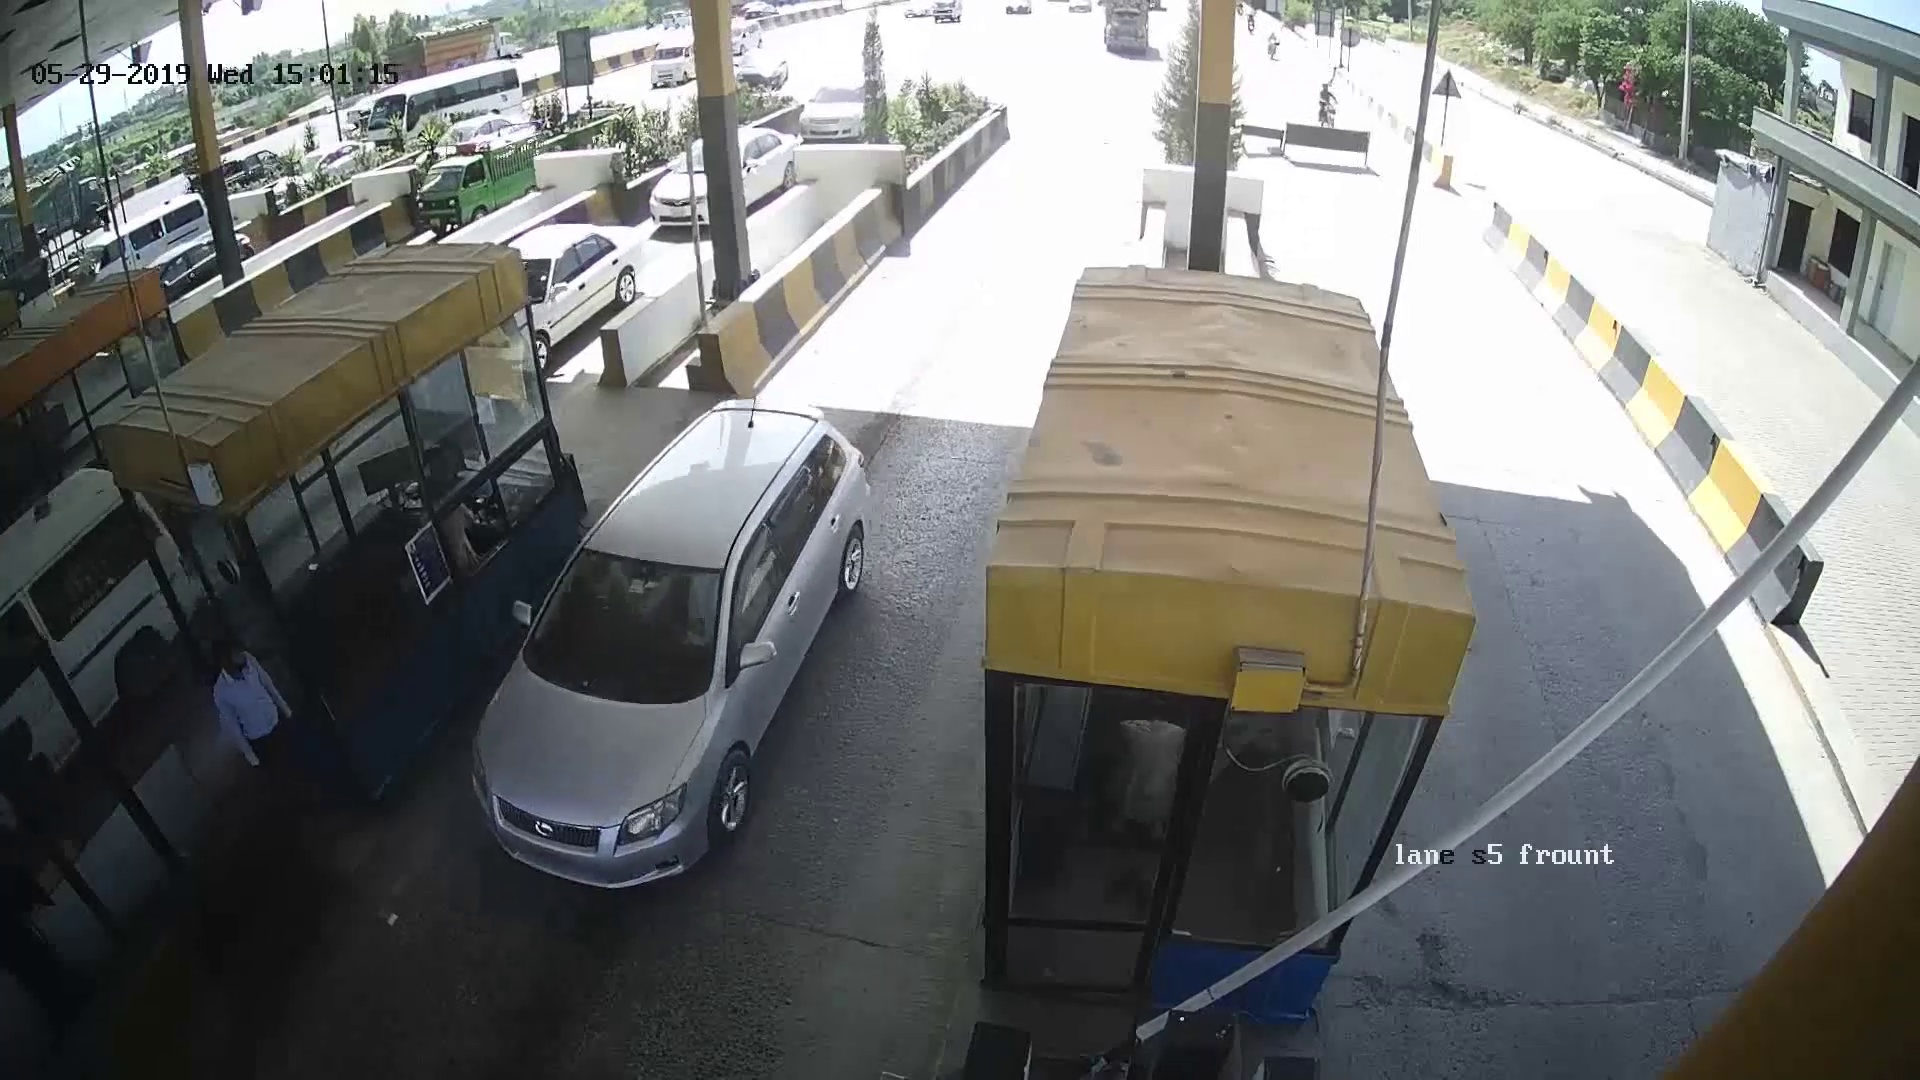car: (520, 438, 829, 895)
